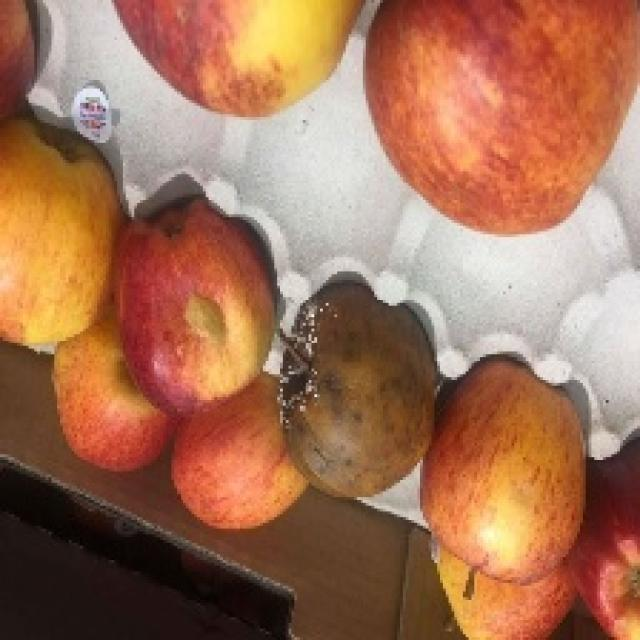rotten_apple: (284, 285, 431, 495)
